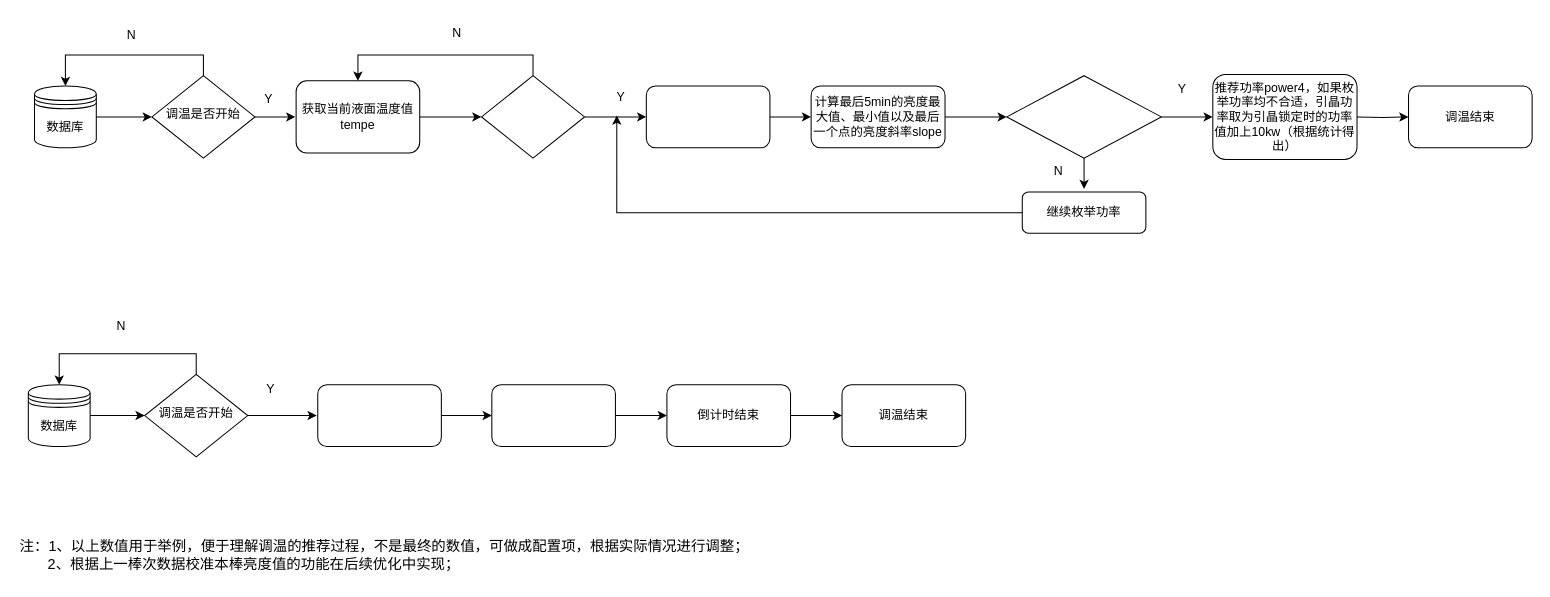
Image size: 1550x597. Some labels were removed from this diagram. Each missing label, with the centre of its shape:
"tempe与53差值在0.1以内" belongs at (532,116).
"最大值与最小值在50左右，且slope与设定斜率阈值差值在0.01内" belongs at (1083,116).
"调温倒计时，默认60min" belongs at (379,415).
"调温阶段III：枚举功率power滚动预测35min的亮度变化" belongs at (707,116).
"锁定引晶功率时校准倒计时时间，默认为35min" belongs at (553,415).
